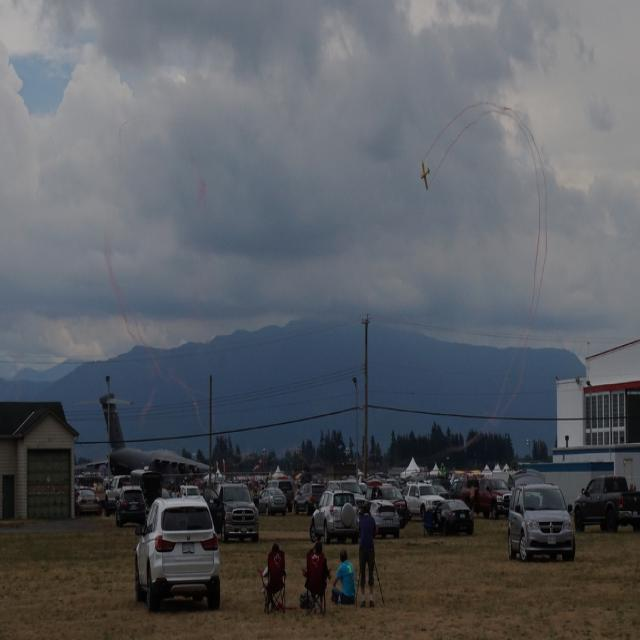car: (133, 494, 220, 612)
